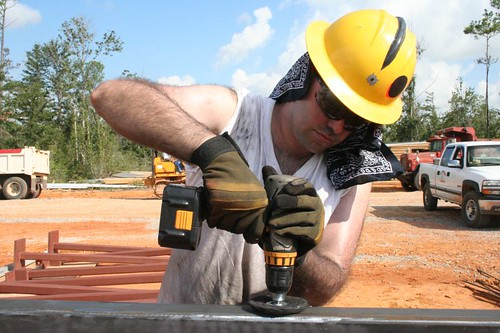person hardhat: (90, 10, 416, 310)
